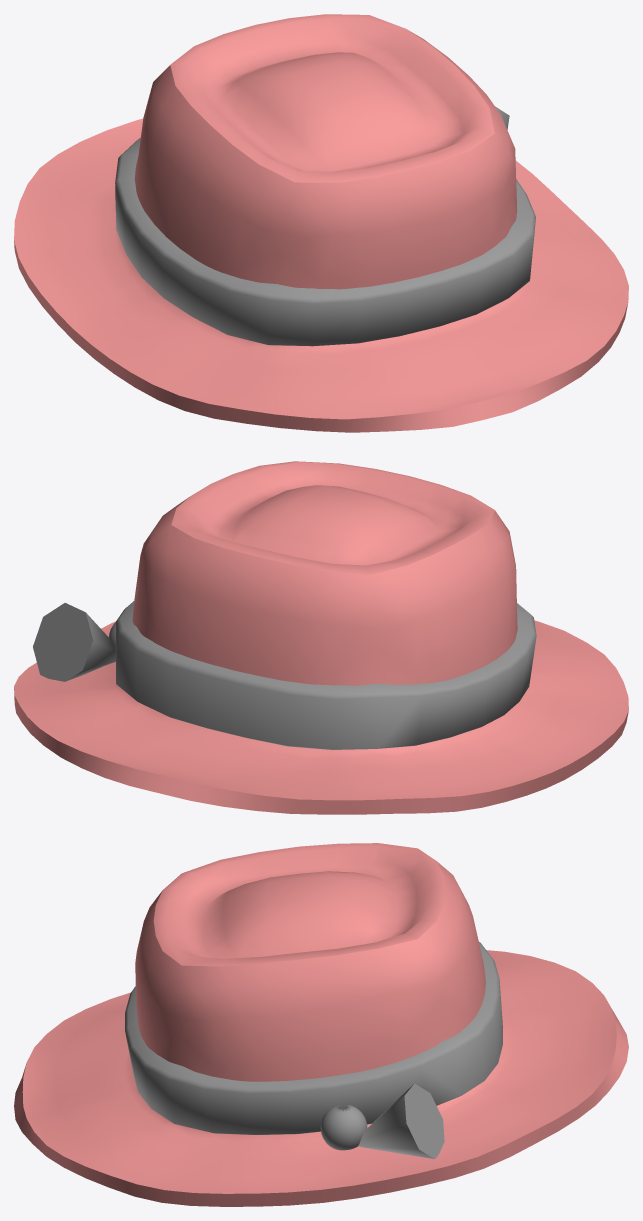
File: HuntingHat.fbx
The picture shows the model from 3 angles, top to bottom: view 1: azimuth 30°, elevation 25°; view 2: azimuth 150°, elevation 25°; view 3: azimuth 270°, elevation 25°; orthographic projection. The views are drawn at different scales.
Parts seen in each view (by area): view 1: SM_Hat_Hunter; view 2: SM_Hat_Hunter; view 3: SM_Hat_Hunter.
Boxes of the visible parts, bbox=[...] form: SM_Hat_Hunter: bbox=[14, 14, 628, 432]; SM_Hat_Hunter: bbox=[14, 461, 628, 814]; SM_Hat_Hunter: bbox=[14, 843, 628, 1206].
Bounding box in the file's own units: 238 × 106 × 270.
